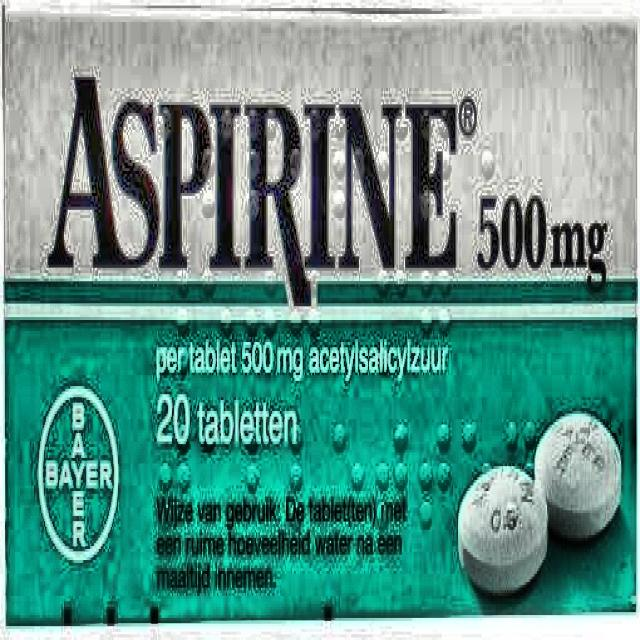Aspirin: (24, 49, 617, 325)
